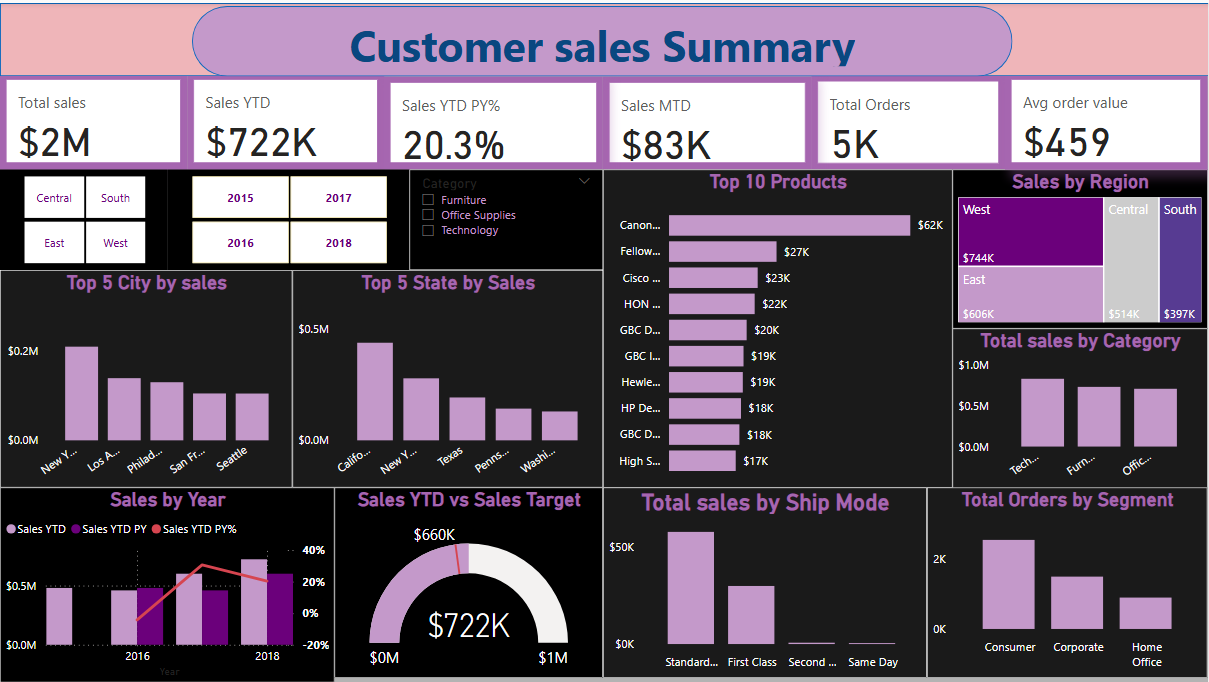

This screenshot's page, from the dashboard's own definition file:
{"tool":"powerbi","page":{"name":"customer sales","canvas":[1280,720],"ordinal":0},"visuals":[{"type":"columnChart","fields":{"Y":["Fact Sales.Total sales"],"Category":["Dim product.Category"]},"box":[1010,345.2,270.4,170.2],"z":0},{"type":"cardVisual","fields":{"Data":["Fact Sales.Total Orders"]},"box":[860.5,76.3,205.2,100.2],"z":1000},{"type":"cardVisual","fields":{"Data":["Fact Sales.Total sales"]},"box":[0,74.8,198.8,101.8],"z":2000},{"type":"treemap","title":"Sales by Region","fields":{"Group":["Dim Customer.Region"],"Values":["Sum(Fact Sales.Sales)"]},"box":[1010,176.6,270.4,168.6],"z":3000},{"type":"cardVisual","fields":{"Data":["Fact Sales.Sales YTD"]},"box":[198.8,74.8,208.4,101.8],"z":4000},{"type":"cardVisual","fields":{"Data":["Fact Sales.Sales MTD"]},"box":[639.4,77.9,221.1,98.6],"z":5000},{"type":"cardVisual","fields":{"Data":["Fact Sales.Avg order value"]},"box":[1065.7,74.8,214.7,101.8],"z":6000},{"type":"cardVisual","fields":{"Data":["Fact Sales.Sales YTD PY%"]},"box":[407.2,77.9,232.2,98.6],"z":7000},{"type":"barChart","title":"Top 10 Products","fields":{"Category":["Dim product.Product Name"],"Y":["Sum(Fact Sales.Sales)"]},"box":[639.4,176.6,370.6,337.2],"z":8000},{"type":"lineClusteredColumnComboChart","title":"Sales by Year","fields":{"Category":["Dim order date.Order Date.Variation.Date Hierarchy.Year"],"Y":["Fact Sales.Sales YTD","Fact Sales.Sales YTD PY"],"Y2":["Fact Sales.Sales YTD PY%"]},"box":[0,513.8,354.7,206.8],"z":9000},{"type":"gauge","title":"Sales YTD vs Sales Target","fields":{"TargetValue":["Fact Sales.Sales Target"],"Y":["Fact Sales.Sales YTD"]},"box":[354.7,513.8,284.7,202],"z":10000},{"type":"slicer","fields":{"Values":["Dim order date.Year"]},"box":[178.1,176.6,256.1,106.6],"z":11000},{"type":"slicer","fields":{"Values":["Dim Customer.Region"]},"box":[0,176.6,178.1,106.6],"z":12000},{"type":"slicer","fields":{"Values":["Dim product.Category"]},"box":[434.2,176.6,205.2,106.6],"z":13000},{"type":"columnChart","title":"Top 5 City by sales","fields":{"Category":["Dim Customer.City"],"Y":["Sum(Fact Sales.Sales)"]},"box":[0,283.1,310.2,230.6],"z":14000},{"type":"shape","box":[0,0,1799.9,77.6],"z":15000},{"type":"shape","box":[203.6,3.2,870.1,74.8],"z":16000},{"type":"columnChart","title":"Top 5 State by Sales","fields":{"Category":["Dim Customer.State"],"Y":["Sum(Fact Sales.Sales)"]},"box":[310.2,283.1,329.3,230.6],"z":17000},{"type":"columnChart","fields":{"Y":["Fact Sales.Total sales"],"Category":["Dim shipmode.Ship Mode"]},"box":[639.4,513.8,343.6,202],"z":18000},{"type":"columnChart","fields":{"Category":["Dim Customer.Segment"],"Y":["Fact Sales.Total Orders"]},"box":[983,513.8,297.4,202],"z":19000}]}

Visuals, with their boxes in screenshot pixels (x1, y1, x2, y2), scaled from the page's 1280x720 canvas onto the 1209x682 screenshot:
columnChart - Fact Sales.Total sales x Dim product.Category: l=954, t=327, r=1208, b=488
cardVisual - Fact Sales.Total Orders: l=813, t=72, r=1007, b=167
cardVisual - Fact Sales.Total sales: l=0, t=71, r=188, b=167
"Sales by Region" treemap: l=954, t=167, r=1208, b=327
cardVisual - Fact Sales.Sales YTD: l=188, t=71, r=385, b=167
cardVisual - Fact Sales.Sales MTD: l=604, t=74, r=813, b=167
cardVisual - Fact Sales.Avg order value: l=1007, t=71, r=1208, b=167
cardVisual - Fact Sales.Sales YTD PY%: l=385, t=74, r=604, b=167
"Top 10 Products" barChart: l=604, t=167, r=954, b=487
"Sales by Year" lineClusteredColumnComboChart: l=0, t=487, r=335, b=681
"Sales YTD vs Sales Target" gauge: l=335, t=487, r=604, b=678
slicer - Dim order date.Year: l=168, t=167, r=410, b=268
slicer - Dim Customer.Region: l=0, t=167, r=168, b=268
slicer - Dim product.Category: l=410, t=167, r=604, b=268
"Top 5 City by sales" columnChart: l=0, t=268, r=293, b=487
shape: l=0, t=0, r=1208, b=74
shape: l=192, t=3, r=1014, b=74
"Top 5 State by Sales" columnChart: l=293, t=268, r=604, b=487
columnChart - Fact Sales.Total sales x Dim shipmode.Ship Mode: l=604, t=487, r=928, b=678
columnChart - Dim Customer.Segment x Fact Sales.Total Orders: l=928, t=487, r=1208, b=678
